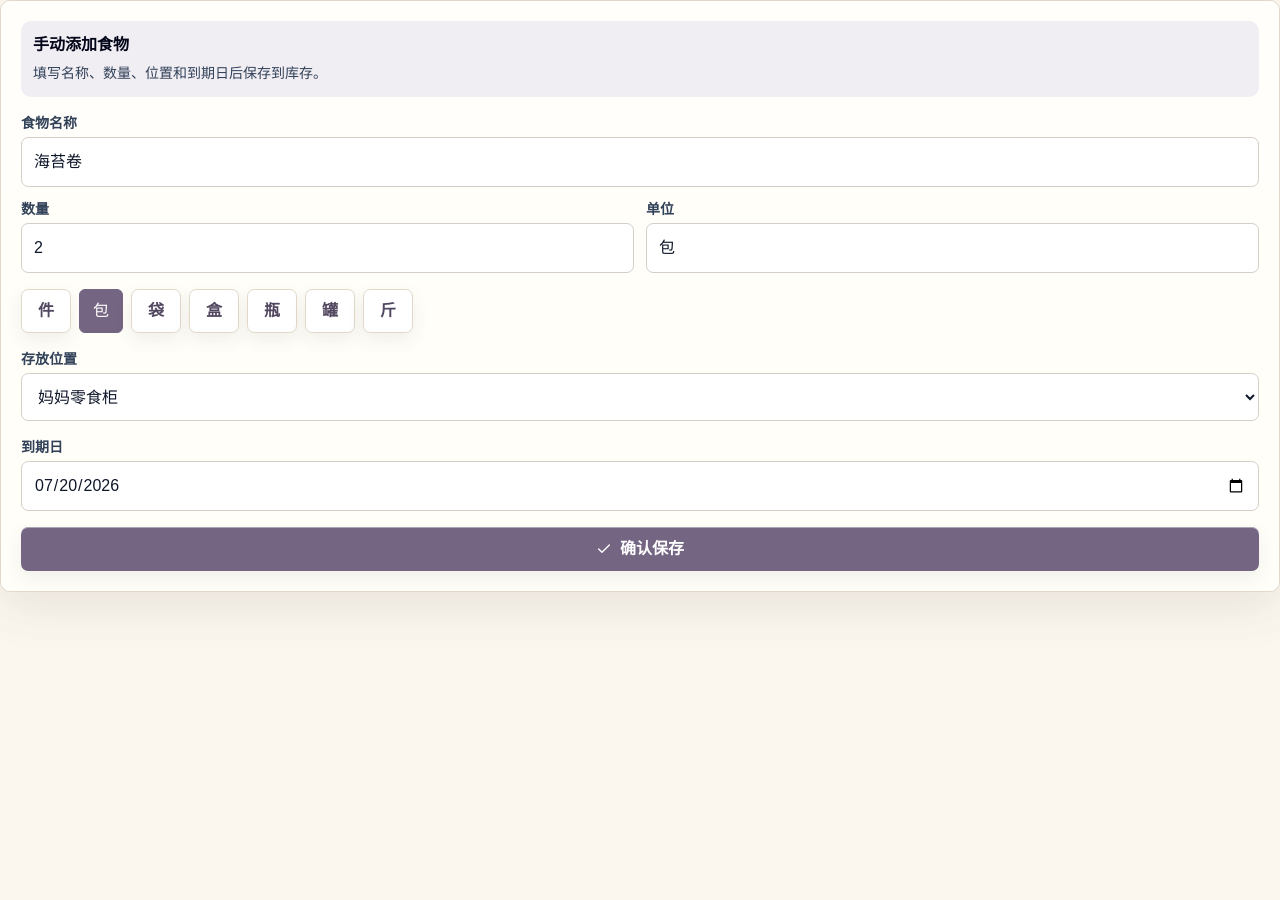
AddFoodConfirmForm › offers clear next steps after saving a food
This screenshot has width=1280, height=900.
Step 1. Click the button "确认保存" → [640, 549], box [21, 527, 1259, 571]
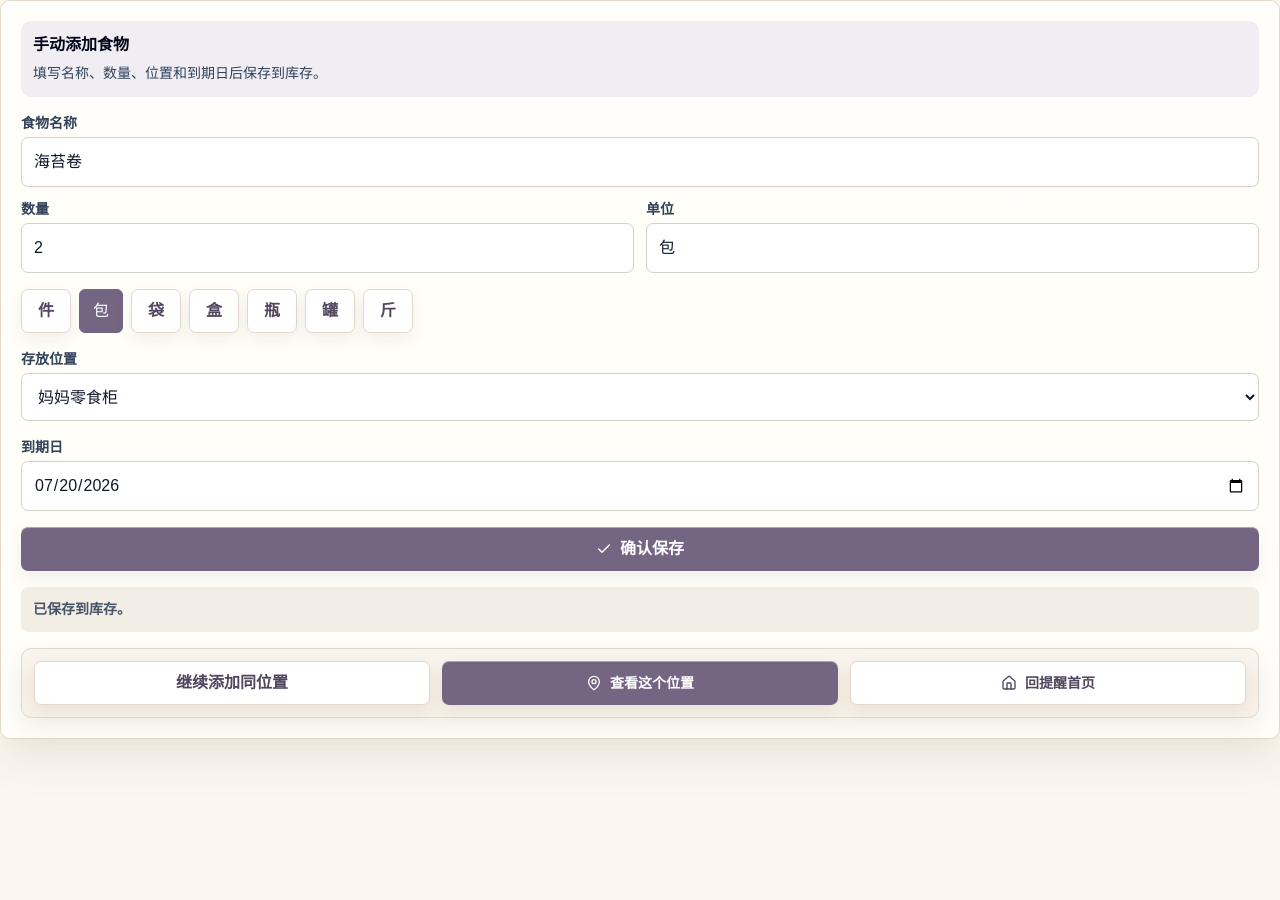
Expected: the text "已保存到库存。" is shown, [21, 587, 1259, 632]
Expected: the button "继续添加同位置" is shown, [34, 661, 430, 705]
